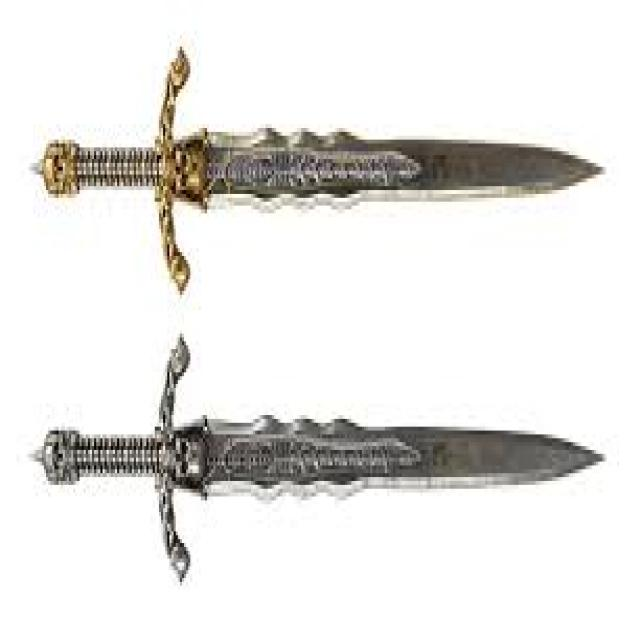Gun: (39, 330, 624, 578), (6, 57, 625, 280)
